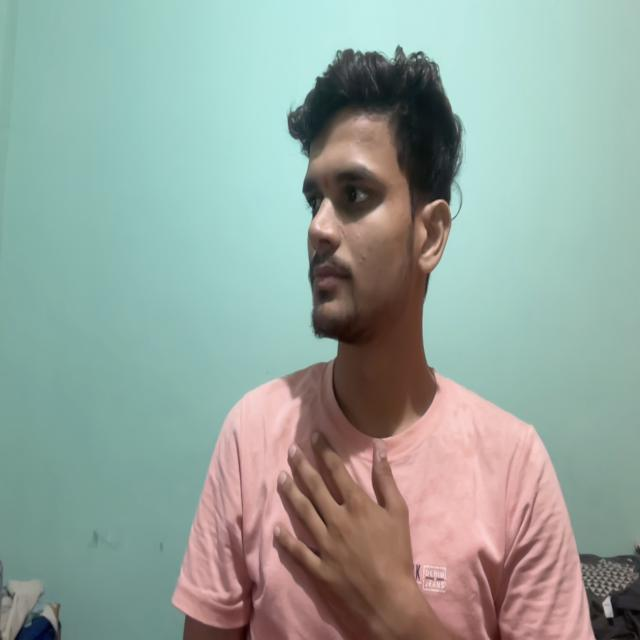Please: (249, 394, 444, 640)
